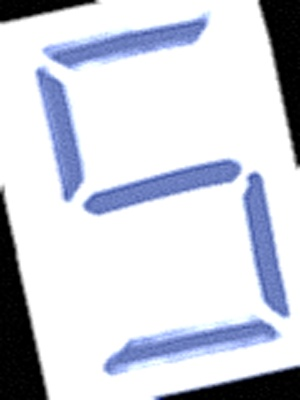five: (20, 20, 290, 385)
